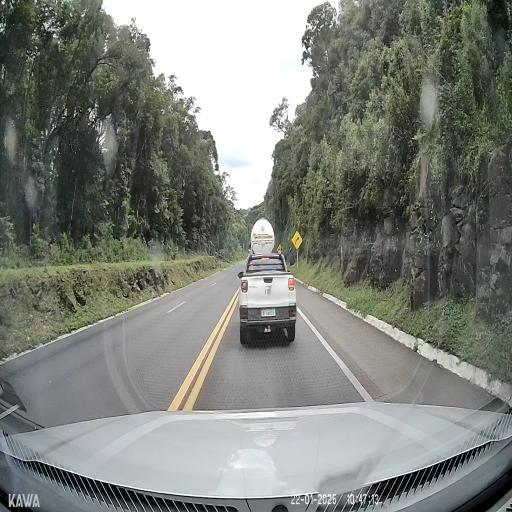A-2b: (292, 229, 302, 250)
